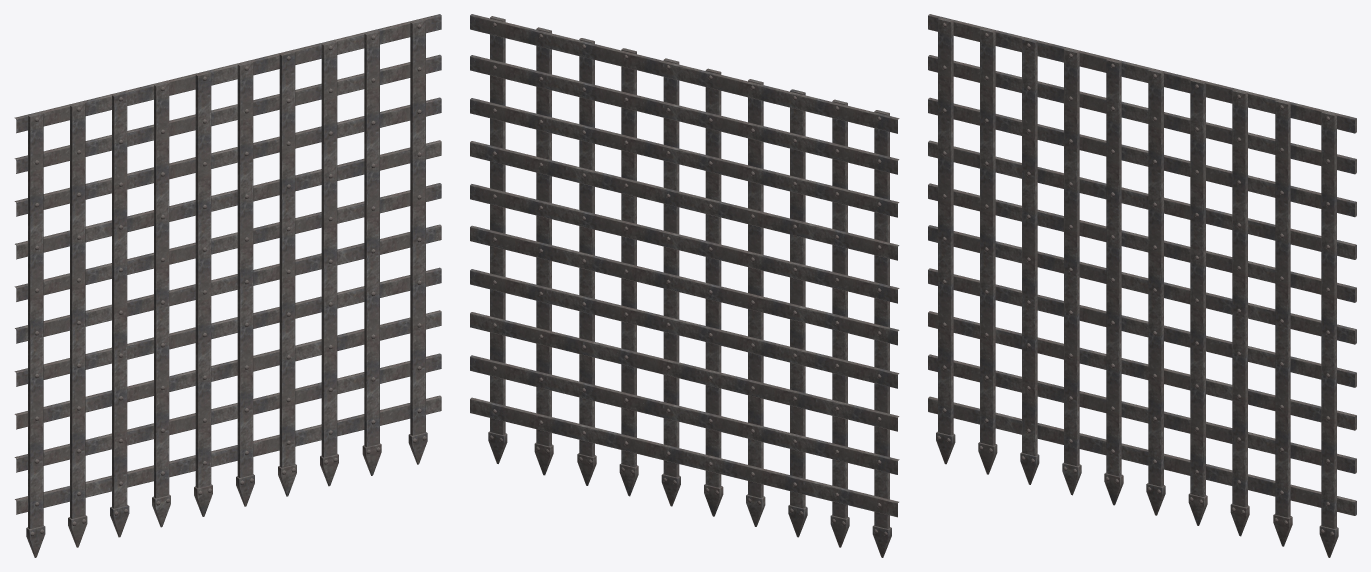
The model's file is metal_gate.glb.
3 renders of one model, left to right at view 1: azimuth 30°, elevation 25°; view 2: azimuth 150°, elevation 25°; view 3: azimuth 330°, elevation 25°, orthographic.
Parts seen in each view (by area): view 1: Object_4; view 2: Object_4; view 3: Object_4.
Boxes of the visible parts, x1,y1,x2,y2 form: Object_4: (14, 14, 441, 557); Object_4: (470, 14, 899, 557); Object_4: (928, 14, 1356, 557).
Size of the model in its own units: 4.34 by 4.32 by 0.1242.
Materials: 1 (1 with a texture image).
